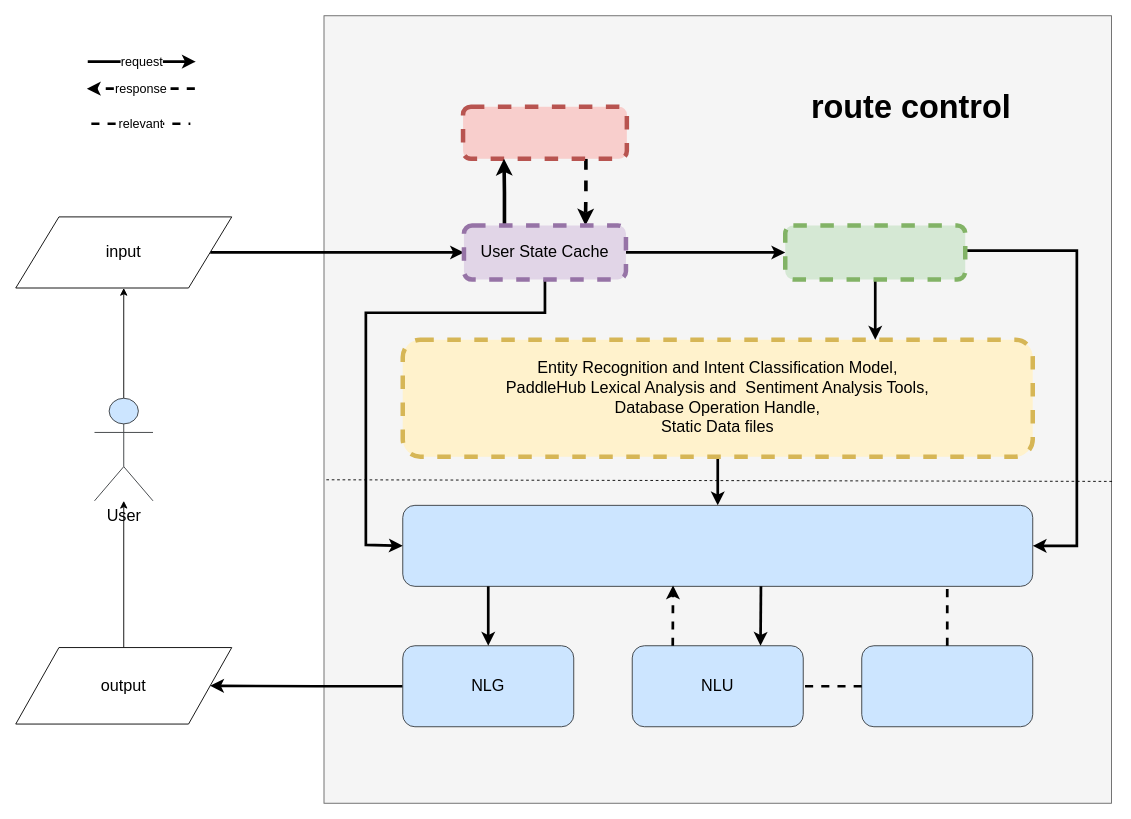
The diagram is 1131 pixels wide and 819 high, and some of its shapes have lost their labels. The shapes that lost their labels are listed below. From the top down, each one's centre as x and y in pixels, then its label:
At point 544,132: "Timeout Recorder Cache".
At point 875,252: "Config File".
At point 717,545: "Work Flow Handle Model".
At point 947,686: "slot".
